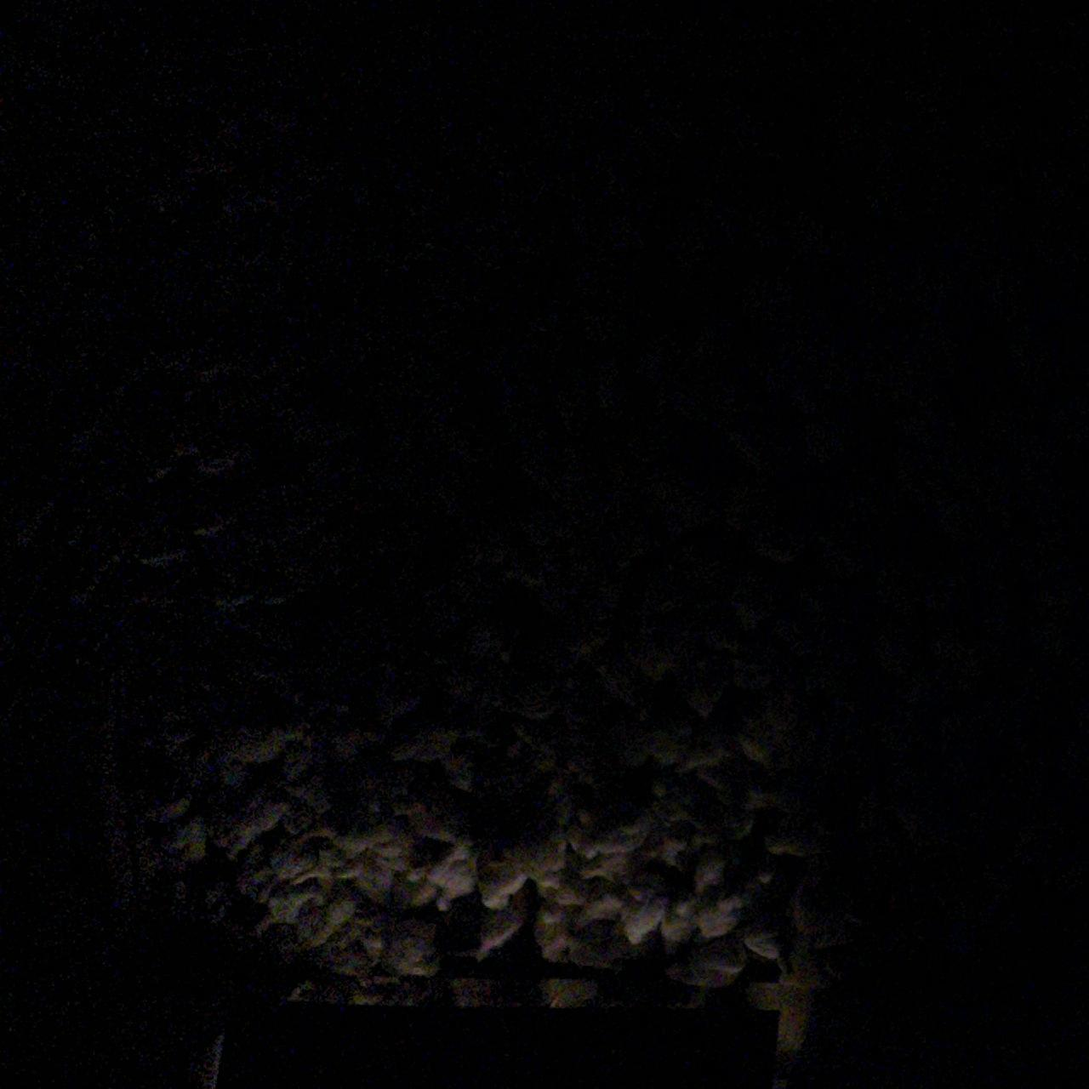chicken: (214, 789, 293, 852), (790, 877, 859, 947), (214, 720, 316, 767), (661, 941, 748, 995), (325, 816, 415, 868), (327, 912, 391, 981), (670, 646, 735, 712), (256, 877, 327, 937), (295, 888, 362, 950), (622, 611, 681, 681), (432, 835, 481, 918), (472, 843, 531, 909), (803, 518, 871, 575), (279, 824, 341, 885), (554, 596, 612, 661), (391, 719, 472, 765), (327, 856, 397, 909), (577, 840, 654, 888), (385, 915, 442, 979), (400, 791, 465, 845), (520, 823, 566, 898), (600, 715, 666, 767), (761, 808, 831, 857), (569, 882, 629, 939), (801, 397, 853, 462), (667, 732, 733, 783), (137, 429, 199, 483), (508, 714, 561, 777), (736, 777, 811, 821), (729, 566, 779, 632), (735, 715, 788, 777), (619, 885, 671, 948), (529, 898, 580, 962), (521, 551, 580, 606), (284, 746, 332, 813), (475, 901, 530, 959), (929, 626, 982, 686), (716, 861, 782, 909), (390, 858, 443, 917), (237, 840, 289, 900), (497, 669, 561, 717), (698, 757, 750, 816), (439, 658, 491, 717), (555, 796, 602, 861), (647, 777, 704, 830), (322, 719, 390, 763), (183, 478, 228, 543), (353, 770, 415, 817), (868, 562, 919, 619), (446, 976, 514, 1018), (211, 568, 274, 613), (462, 614, 517, 665), (643, 830, 705, 875), (165, 816, 218, 868), (371, 671, 420, 727), (197, 428, 253, 477), (691, 894, 749, 941), (594, 816, 654, 861), (343, 977, 405, 1019), (722, 639, 774, 689), (468, 519, 516, 573), (143, 781, 204, 823), (721, 485, 771, 536), (284, 408, 353, 444), (591, 358, 633, 416), (542, 975, 601, 1016), (134, 516, 181, 567), (761, 509, 807, 561), (690, 842, 733, 897), (869, 625, 914, 677), (721, 420, 771, 466), (691, 805, 753, 842), (434, 740, 473, 797), (264, 566, 311, 613), (555, 372, 591, 432), (391, 976, 437, 1021), (289, 980, 346, 1016), (741, 920, 784, 966), (44, 918, 51, 920)
